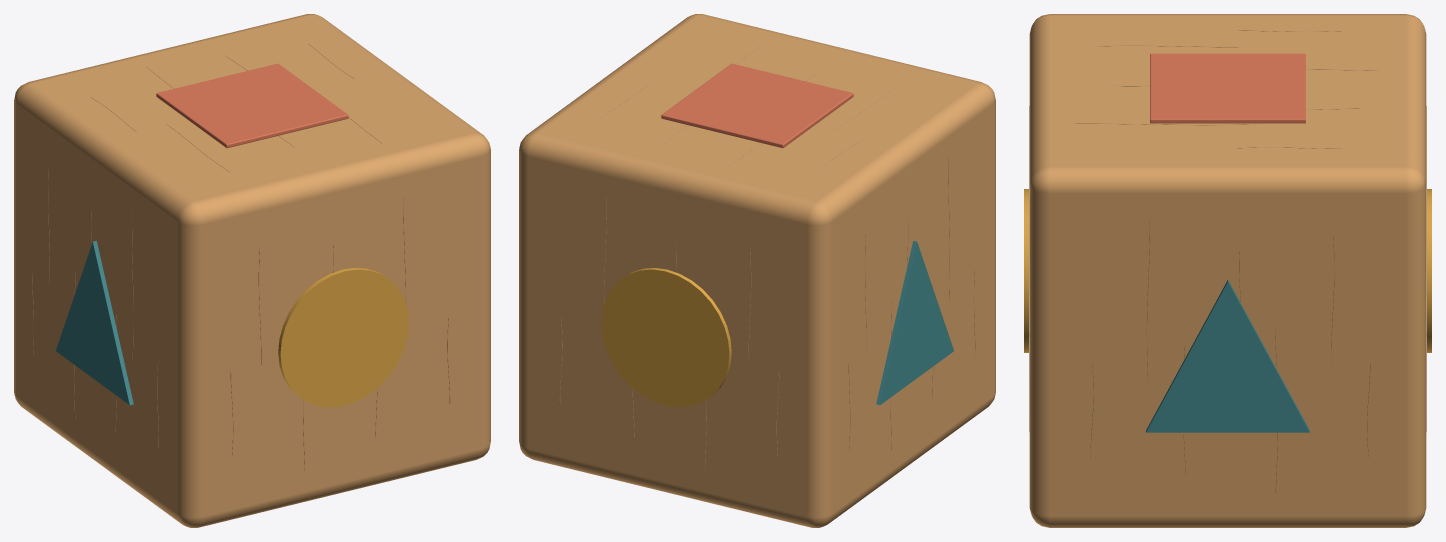
File: play-cube-warm-grain.glb
The picture shows the model from 3 angles, left to right: view 1: azimuth 30°, elevation 25°; view 2: azimuth 150°, elevation 25°; view 3: azimuth 270°, elevation 25°; orthographic projection. The views are drawn at different scales.
Visible parts, largest first — view 1: Cube_Wood, Cube_Yellow_Circle_Front, Cube_Coral_Square_Top, Cube_Blue_Triangle_Left; view 2: Cube_Wood, Cube_Yellow_Circle_Back, Cube_Coral_Square_Top, Cube_Blue_Triangle_Left; view 3: Cube_Wood, Cube_Blue_Triangle_Right, Cube_Coral_Square_Top, Cube_Yellow_Circle_Back, Cube_Yellow_Circle_Front.
Part boxes in pixels (<box>): Cube_Wood: <box>14,14,490,527</box>; Cube_Yellow_Circle_Front: <box>278,268,408,407</box>; Cube_Coral_Square_Top: <box>156,63,348,148</box>; Cube_Blue_Triangle_Left: <box>56,241,133,405</box>; Cube_Wood: <box>519,14,995,527</box>; Cube_Yellow_Circle_Back: <box>601,268,731,407</box>; Cube_Coral_Square_Top: <box>661,63,853,148</box>; Cube_Blue_Triangle_Left: <box>876,241,953,405</box>; Cube_Wood: <box>1029,14,1426,527</box>; Cube_Blue_Triangle_Right: <box>1146,280,1309,432</box>; Cube_Coral_Square_Top: <box>1150,53,1305,123</box>; Cube_Yellow_Circle_Back: <box>1426,189,1431,352</box>; Cube_Yellow_Circle_Front: <box>1024,189,1029,352</box>.
Bounding box in the file's own units: 0.1592 × 0.1592 × 0.1592.
